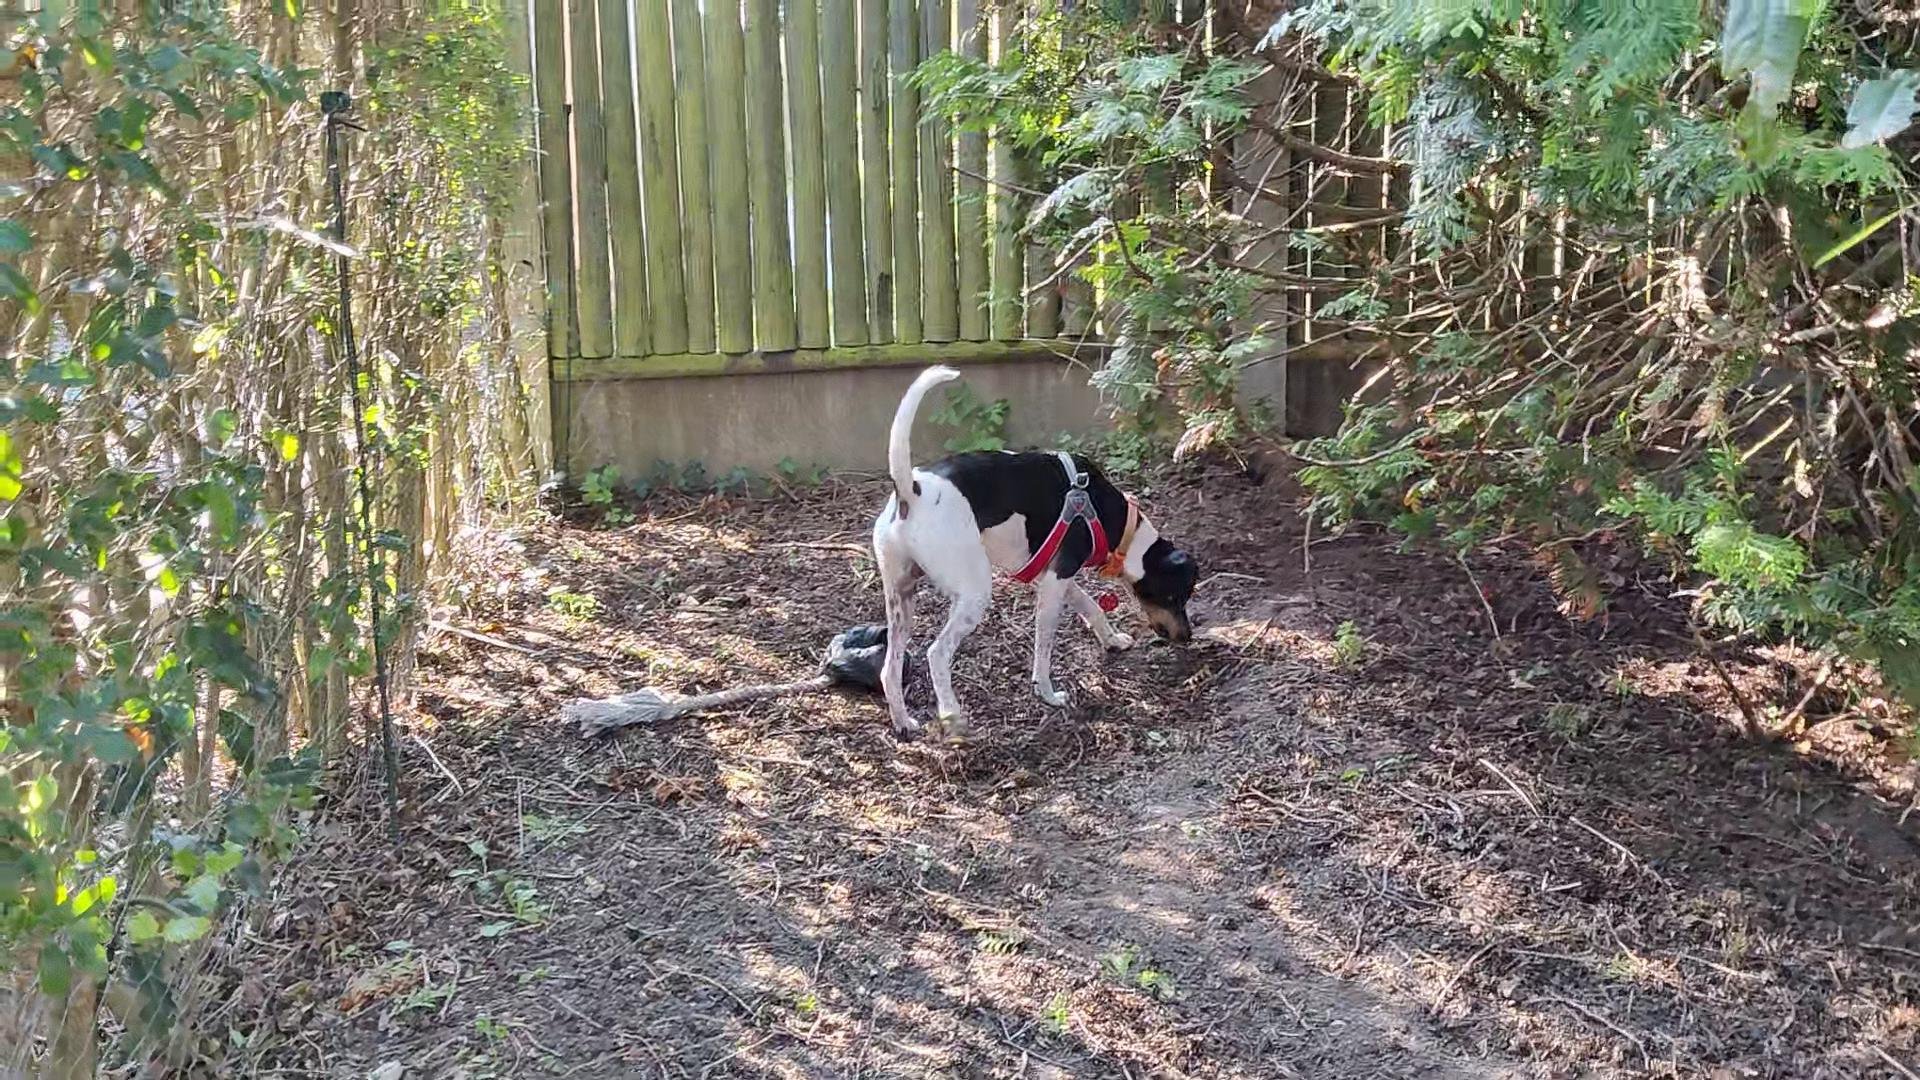Dog: (868, 360, 1207, 752)
